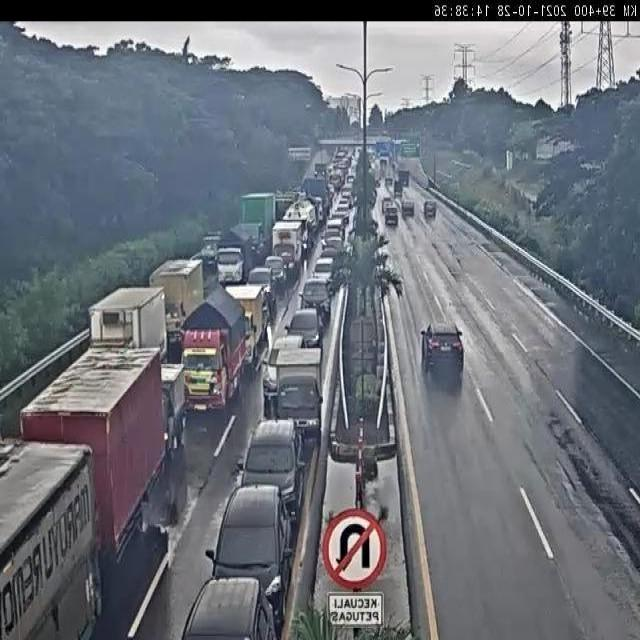Car: (205, 485, 295, 632), (237, 420, 303, 515), (421, 323, 464, 376), (298, 277, 333, 323), (286, 309, 322, 352), (247, 266, 275, 304), (264, 254, 286, 294), (319, 245, 342, 267), (312, 257, 332, 280), (320, 227, 340, 248), (326, 217, 345, 239), (384, 200, 398, 226), (334, 202, 350, 222), (382, 198, 392, 214), (338, 198, 352, 208), (386, 176, 393, 186)
Truck: (18, 342, 174, 565), (0, 436, 100, 639), (178, 286, 243, 412), (88, 285, 166, 362), (265, 344, 323, 442), (149, 254, 206, 348), (224, 283, 275, 378), (239, 192, 275, 264), (159, 362, 186, 453), (215, 222, 252, 288), (271, 219, 308, 284), (283, 197, 318, 250), (300, 177, 330, 224), (201, 227, 228, 270), (397, 168, 410, 189), (371, 168, 382, 186), (393, 180, 402, 198), (379, 156, 388, 174)
